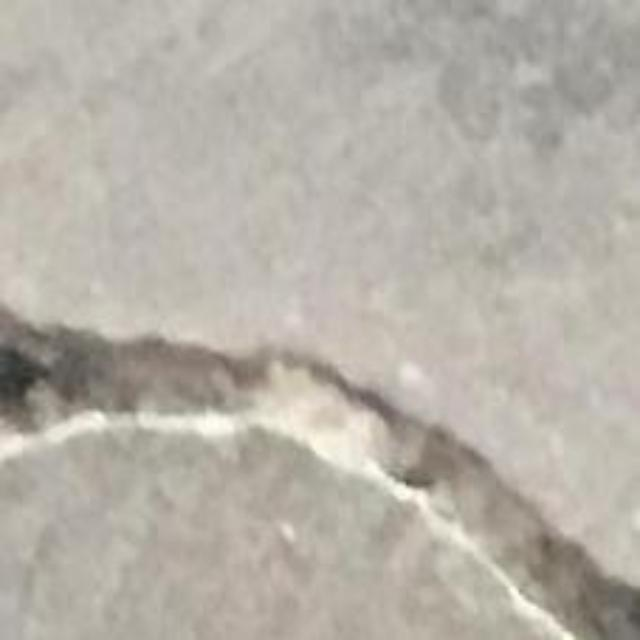crack: (0, 305, 639, 639)
